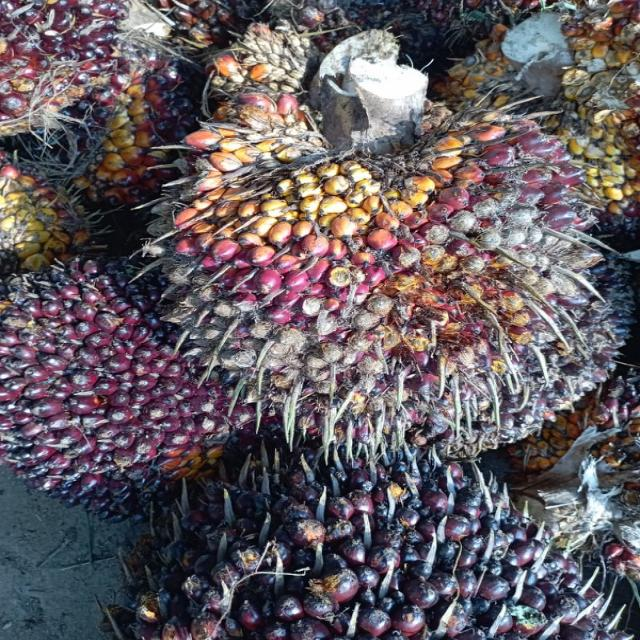fraksi 00: (136, 444, 614, 640)
fraksi 1: (117, 102, 622, 459), (0, 246, 224, 494)
